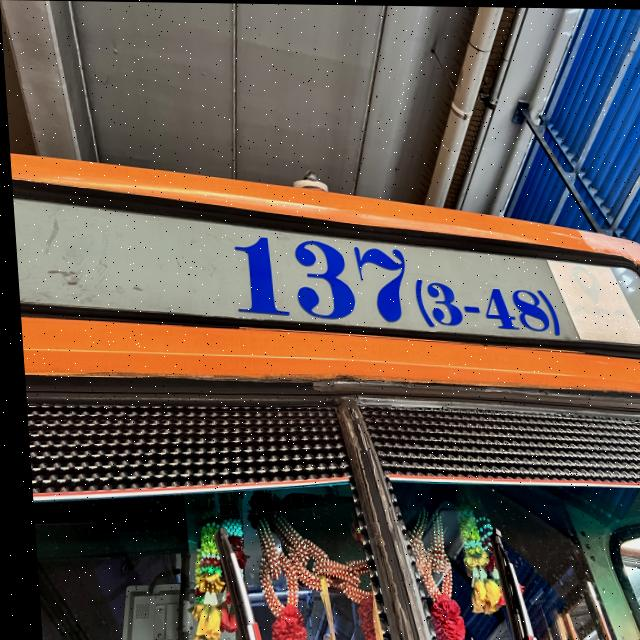BMTA-bus: (8, 158, 640, 640)
Bus Line Number: (219, 226, 561, 345)
